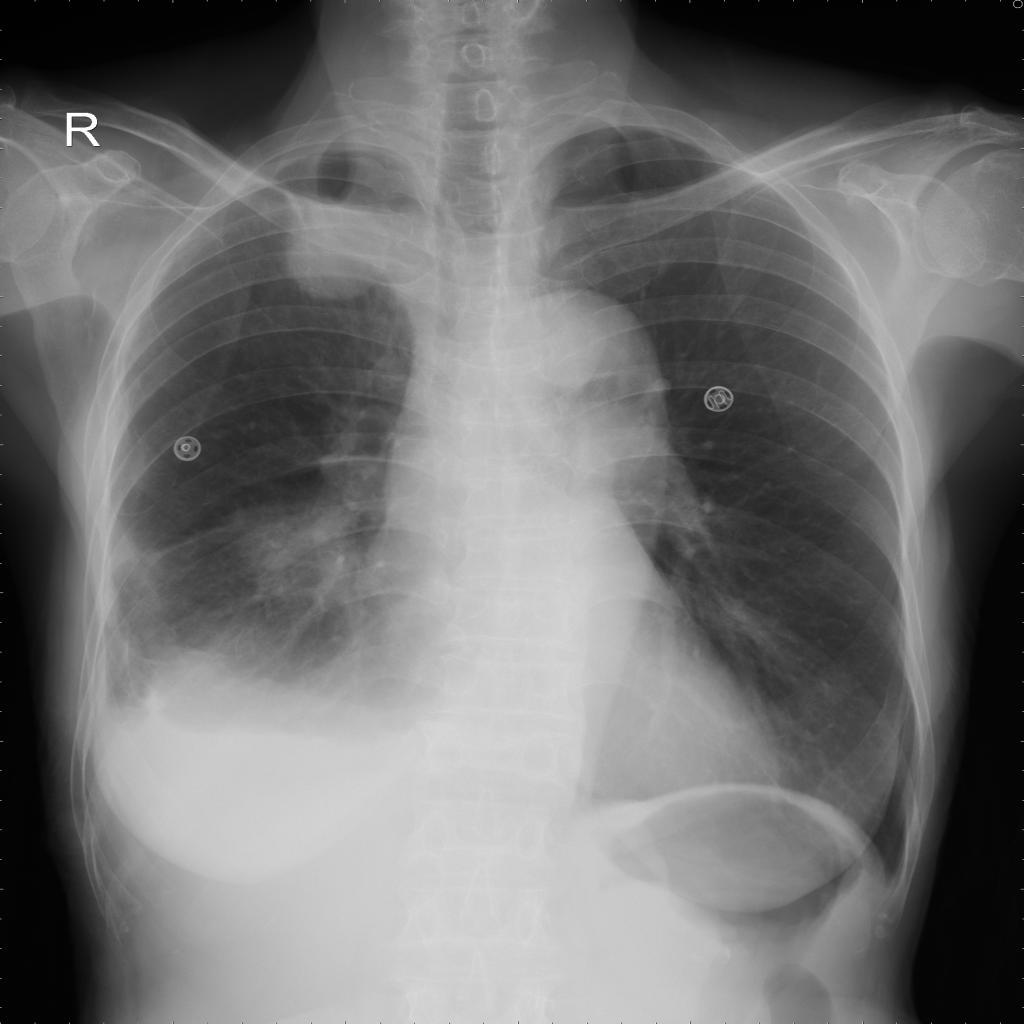Nodule: (230, 498, 360, 606), (279, 199, 398, 303)
